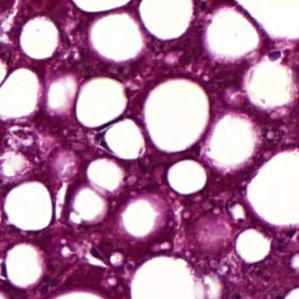steatosis: (144, 78, 210, 154), (4, 178, 52, 230), (139, 0, 194, 41), (20, 16, 58, 61)
